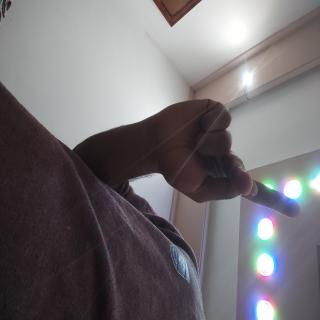DHAA: (66, 17, 169, 225)
